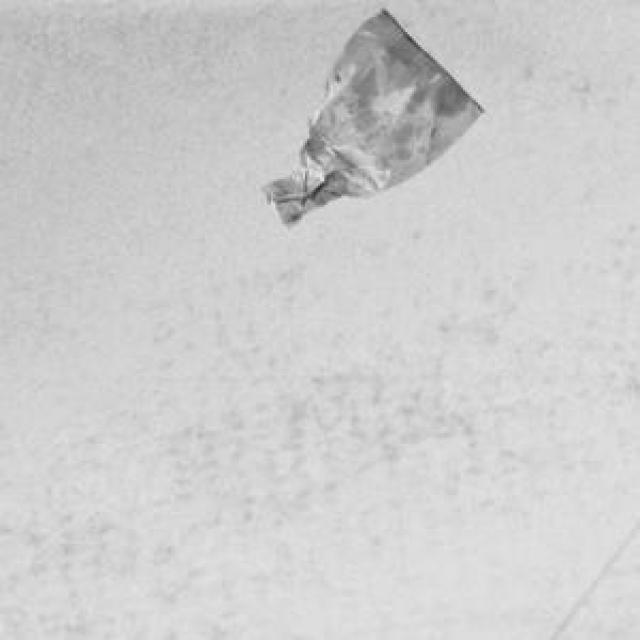paper: (258, 4, 480, 224)
